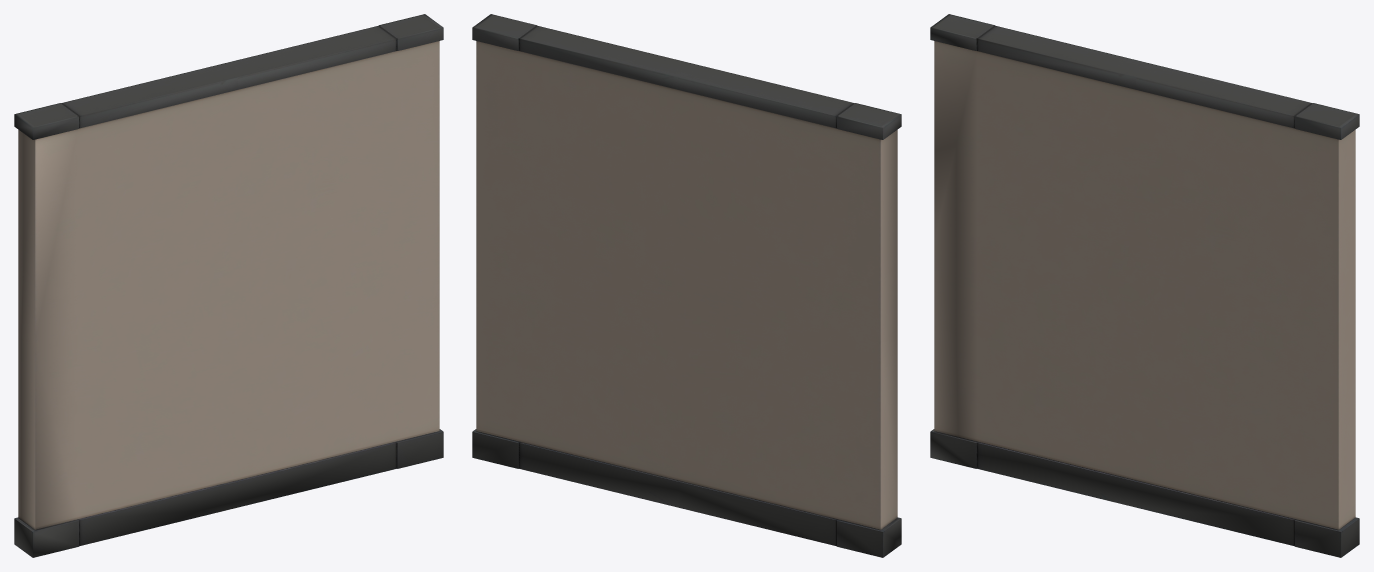
File: ENV_Wall_4m_A_v001.fbx
3 views of the same model, side by side, from view 1: azimuth 30°, elevation 25°; view 2: azimuth 150°, elevation 25°; view 3: azimuth 330°, elevation 25° (orthographic).
Parts seen in each view (by area): view 1: 큐브.001; view 2: 큐브.001; view 3: 큐브.001.
Part boxes in pixels (x1,y1,x2,y2): 큐브.001: (14,14,443,557); 큐브.001: (472,14,901,557); 큐브.001: (930,14,1359,557).
Size of the model in its own units: 400 by 400 by 31.54.
1 material, 1 textured.
